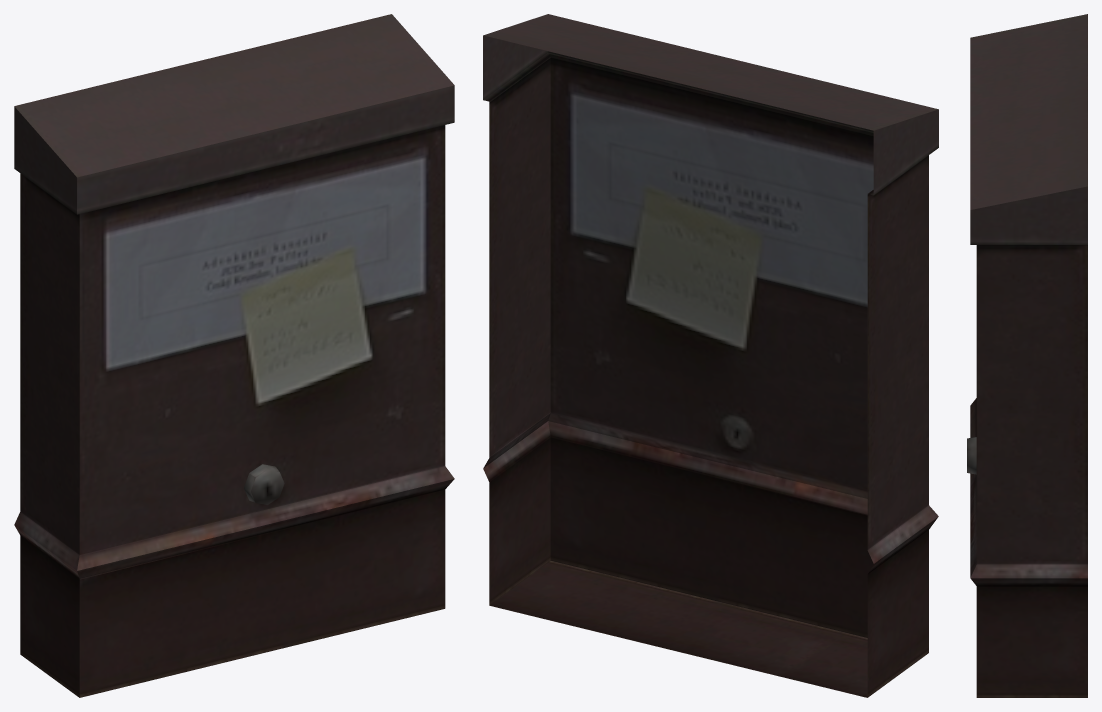
Rendered from mail_box_mx_1.obj.
The picture shows the model from 3 angles, left to right: view 1: azimuth 30°, elevation 25°; view 2: azimuth 150°, elevation 25°; view 3: azimuth 270°, elevation 25°; orthographic projection. The views are drawn at different scales.
Parts seen in each view (by area): view 1: mail_box_mx_1; view 2: mail_box_mx_1; view 3: mail_box_mx_1.
Part boxes in pixels (bbox=[...]): mail_box_mx_1: bbox=[14, 14, 454, 697]; mail_box_mx_1: bbox=[483, 14, 938, 697]; mail_box_mx_1: bbox=[967, 14, 1087, 697].
Size of the model in its own units: 0.312 by 0.434 by 0.0925.
